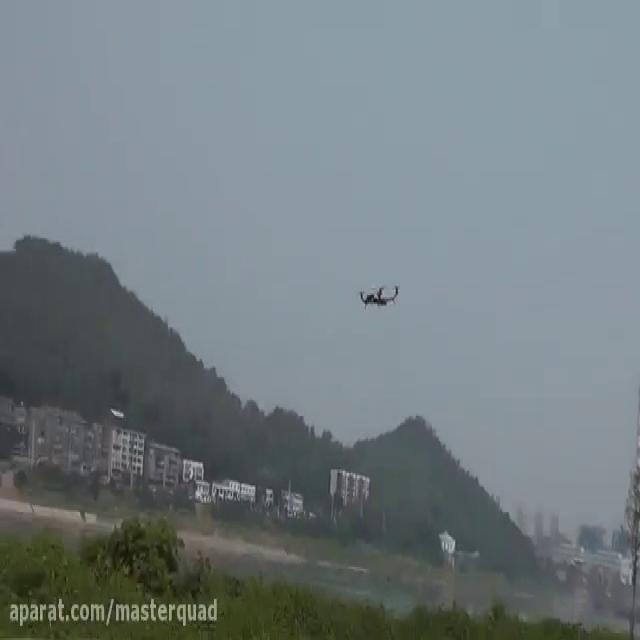drone: (355, 274, 404, 313)
